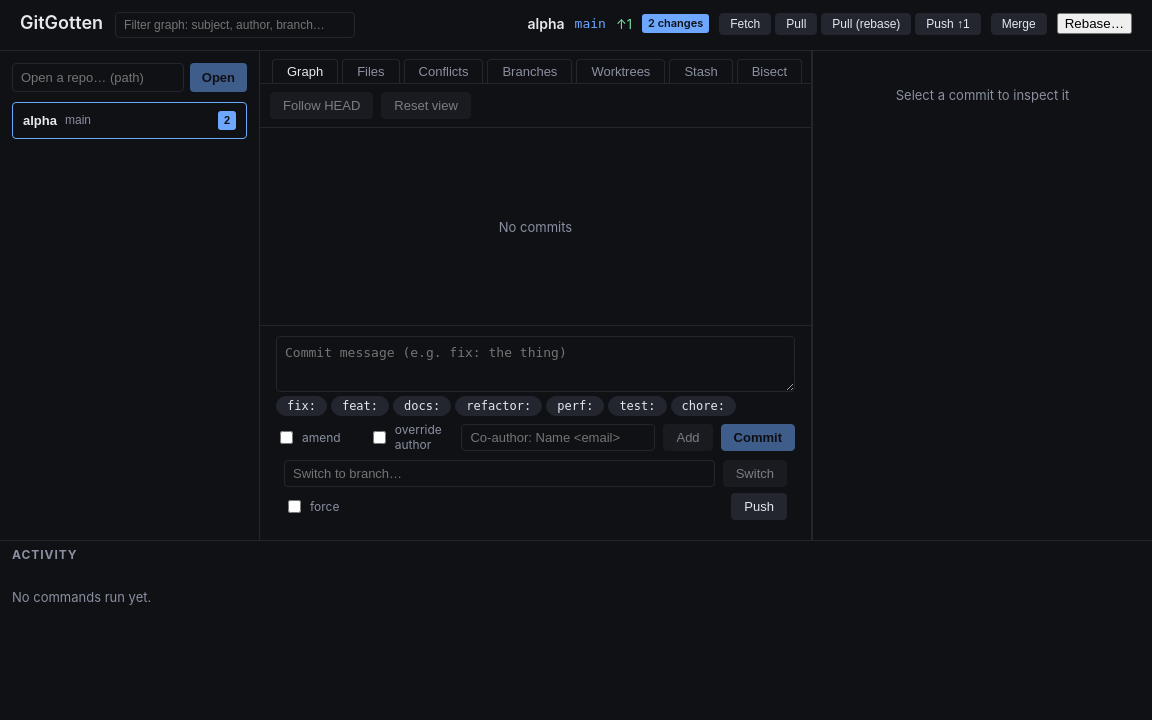
Scenario: renders a seeded repo: nav entry, top-bar state, and changes
Note: The changed files live in the Files tab (the graph is the default tab).
What coordinates should you click on to do the following:
click the tab "Files"
I would click on:
 (371, 71)
Its box is [342, 59, 400, 83].
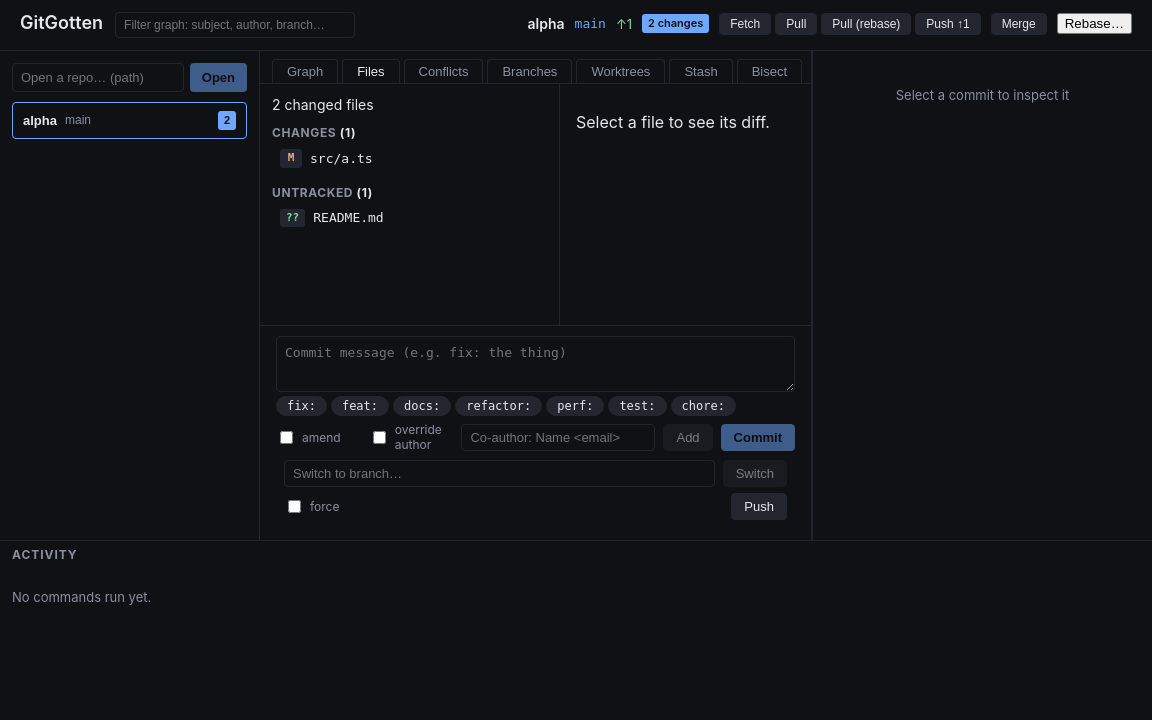
Expected: the text "alpha" is shown, [528, 15, 565, 32]
Now the text "src/a.ts" is shown, box [310, 151, 373, 166]
Now the text "README.md" is shown, box [313, 210, 384, 225]
